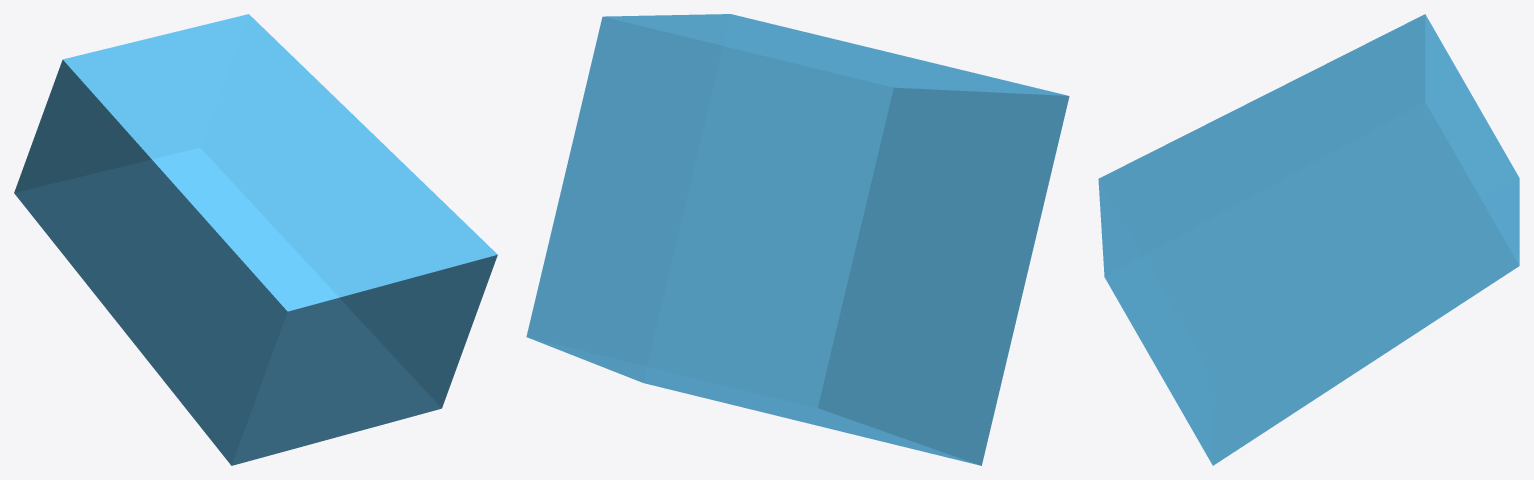
Rendered from Event_420094457_HBrechit_21.fbx.
3 renders of one model, left to right at view 1: azimuth 30°, elevation 25°; view 2: azimuth 150°, elevation 25°; view 3: azimuth 270°, elevation 25°, orthographic. The views are drawn at different scales.
Parts seen in each view (by area): view 1: Model; view 2: Model; view 3: Model.
Part boxes in pixels (x1,y1,x2,y2): Model: [14, 14, 497, 465]; Model: [526, 14, 1069, 465]; Model: [1098, 14, 1519, 465].
Bounding box in the file's own units: 0.5942 × 0.7113 × 0.829.
